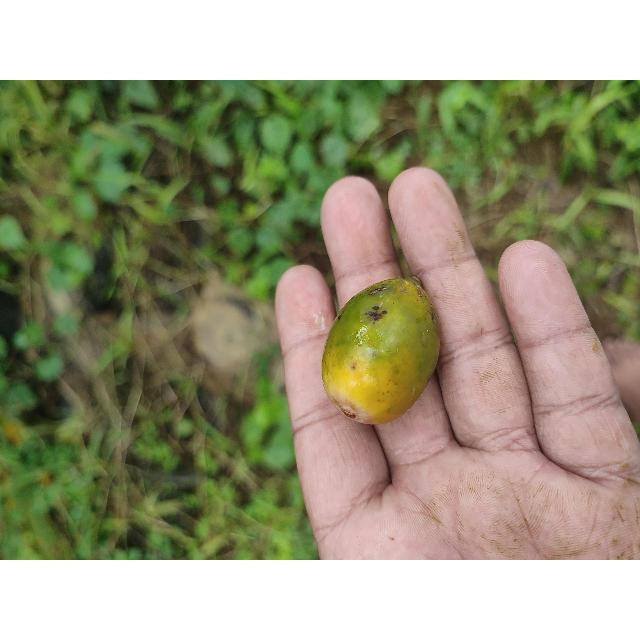damaged: (320, 278, 443, 426)
